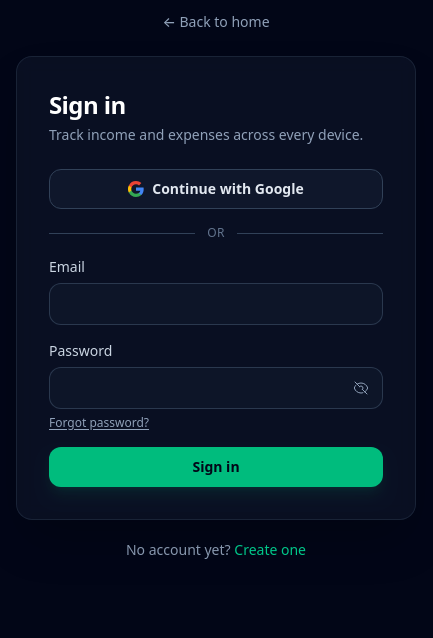
it: LoginPage › shows the server message when credentials are rejected
In the field labelled "Email": (216, 304) [49, 283, 383, 325], type "ada@example.com"
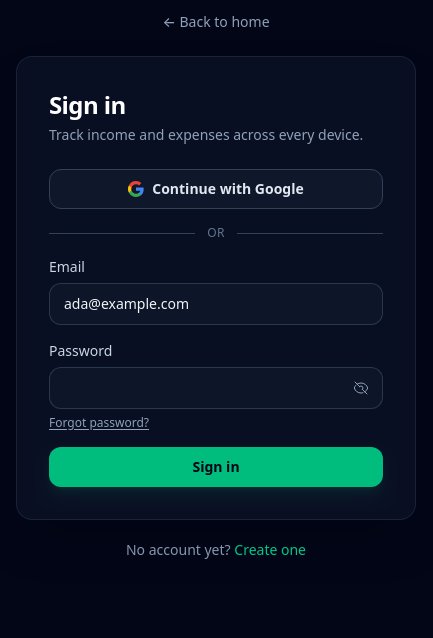
In the password field labelled "Password": (216, 388) [49, 367, 383, 409], type "wrong-password"
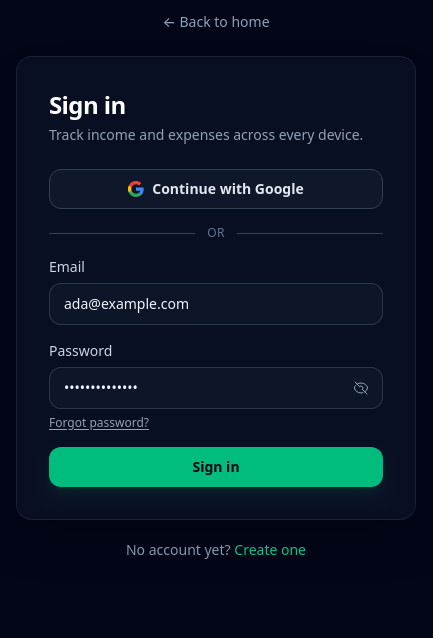
Click the button "Sign in": (216, 467) [49, 447, 383, 487]
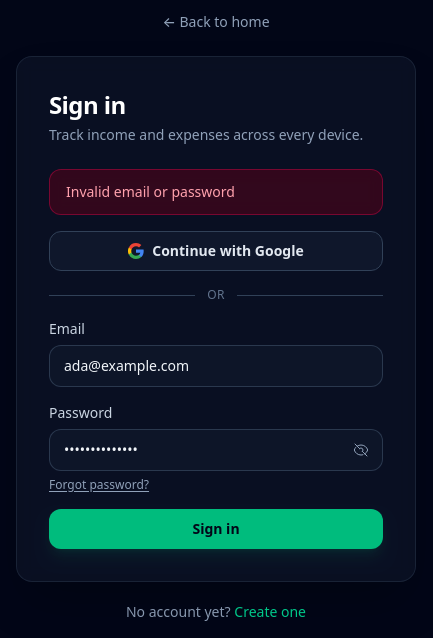
Expected: the text "Invalid email or password" is shown, [49, 169, 383, 215]
